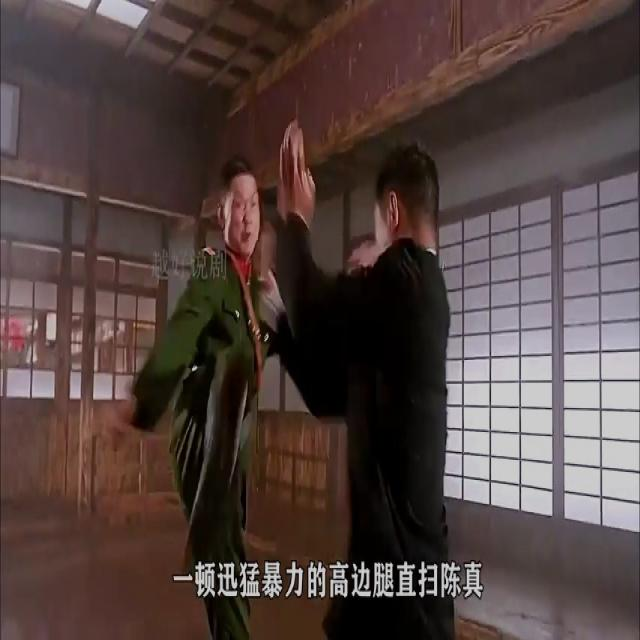fight: (121, 104, 469, 639)
